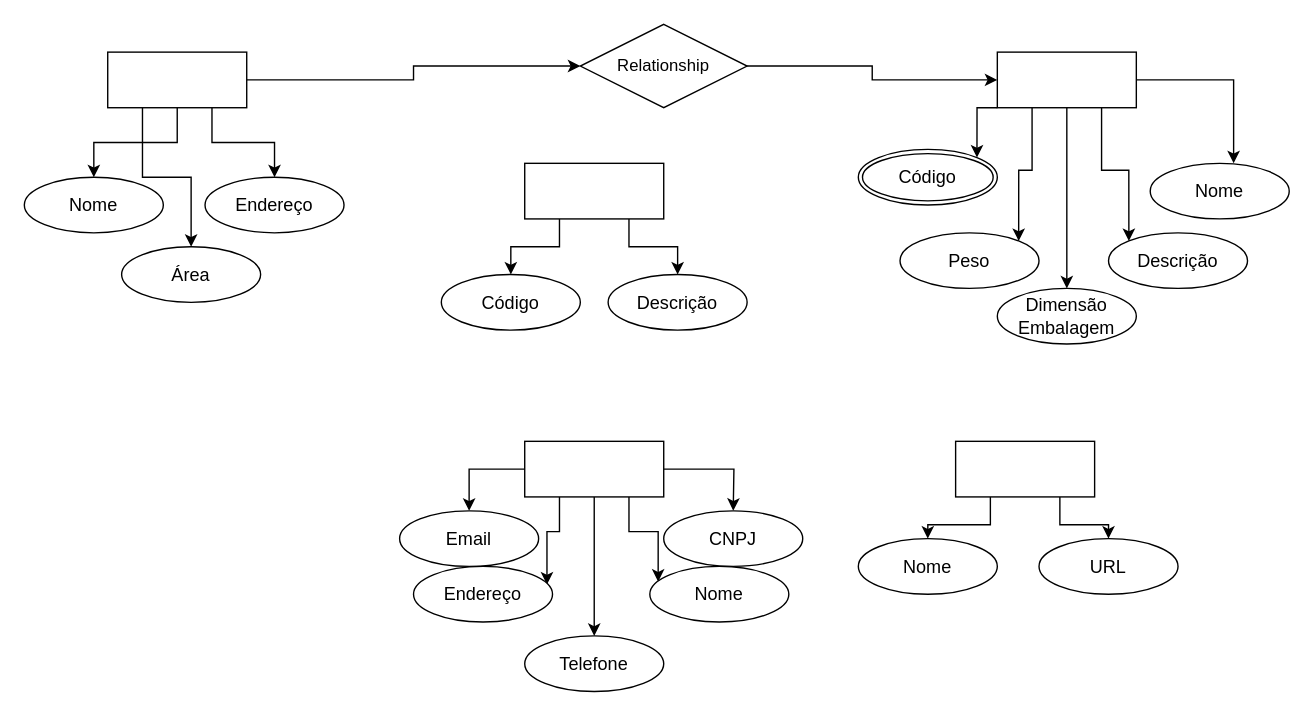
Image size: 1314x716. Some labels were removed from this diagram. The centre of each missing label's shape, as x and y in pixels:
"Categoria" goes at (x=593, y=190).
"Distribuidora" goes at (x=593, y=468).
"Fábrica" goes at (x=176, y=79).
"Loja Online" goes at (x=1024, y=468).
"Produto" goes at (x=1066, y=79).
